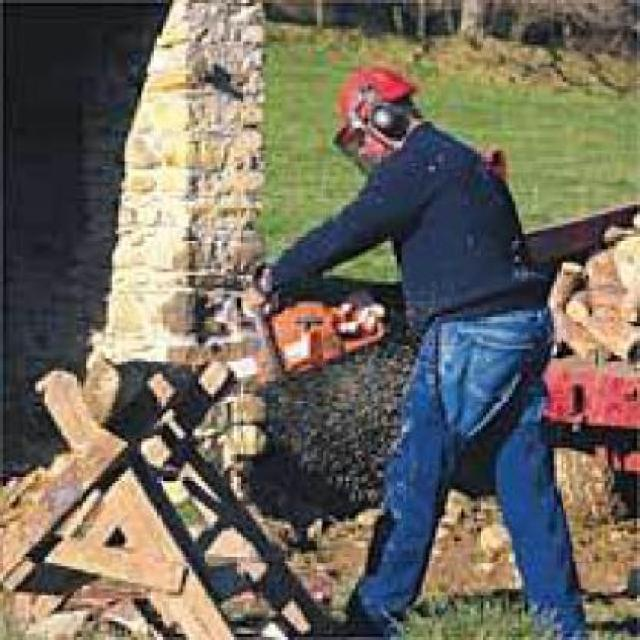Chainsaw: (185, 300, 393, 397)
